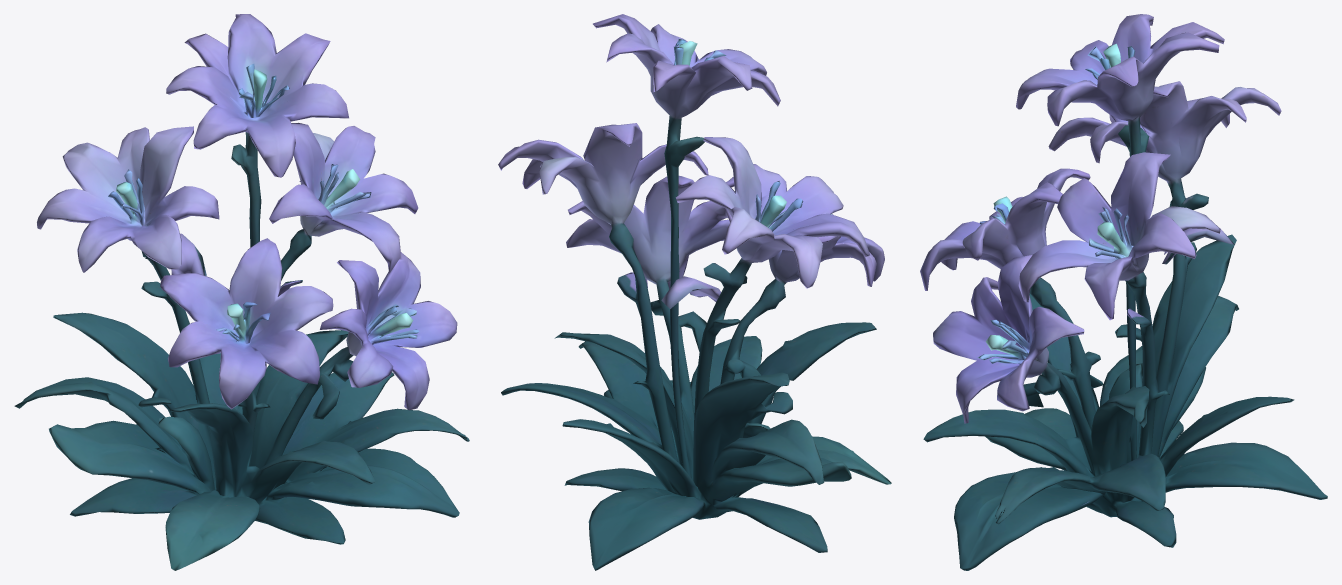
Rendered from glow_flowers.glb.
The picture shows the model from 3 angles, left to right: view 1: azimuth 30°, elevation 25°; view 2: azimuth 150°, elevation 25°; view 3: azimuth 270°, elevation 25°; orthographic projection. The views are drawn at different scales.
Visible parts, largest first — view 1: tripo_node_cb7ca95e-860b-48ea-a7d8-e4ba9807c8e4; view 2: tripo_node_cb7ca95e-860b-48ea-a7d8-e4ba9807c8e4; view 3: tripo_node_cb7ca95e-860b-48ea-a7d8-e4ba9807c8e4.
Boxes of the visible parts, x1,y1,x2,y2 form: tripo_node_cb7ca95e-860b-48ea-a7d8-e4ba9807c8e4: (14, 14, 469, 570); tripo_node_cb7ca95e-860b-48ea-a7d8-e4ba9807c8e4: (498, 14, 891, 570); tripo_node_cb7ca95e-860b-48ea-a7d8-e4ba9807c8e4: (920, 14, 1327, 570).
Bounding box in the file's own units: 0.771 × 0.9803 × 0.7358.
1 material, 1 textured.
